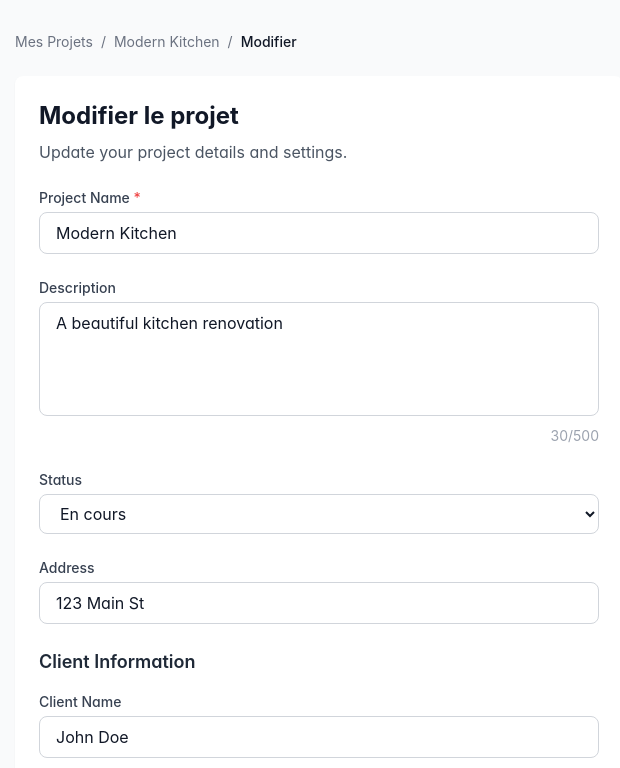
Scenario: ProjectEdit › Form Validation › should show error when name is cleared and form is submitted
Clear the field labelled "Project Name *" at (319, 233), box [39,212,599,254]
(page scrolled)
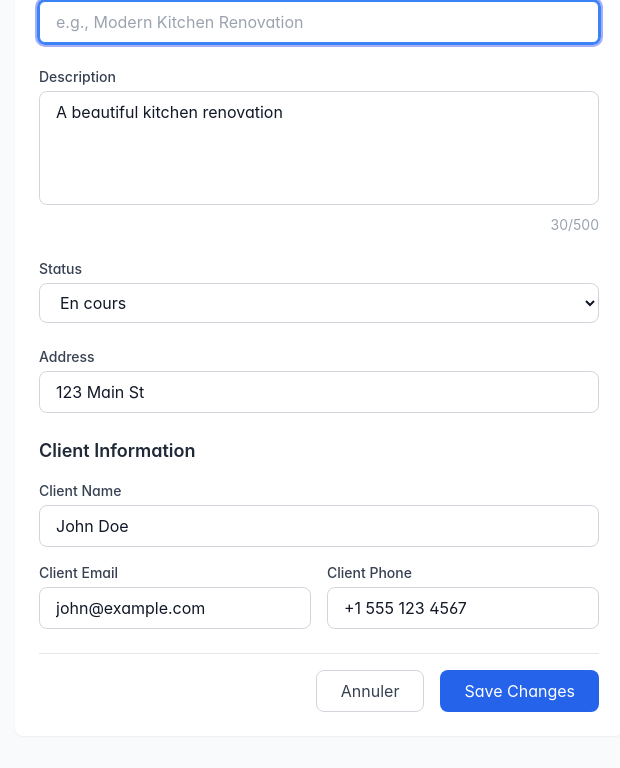
Click the button "Save Changes" at (520, 691), box [440,670,599,712]
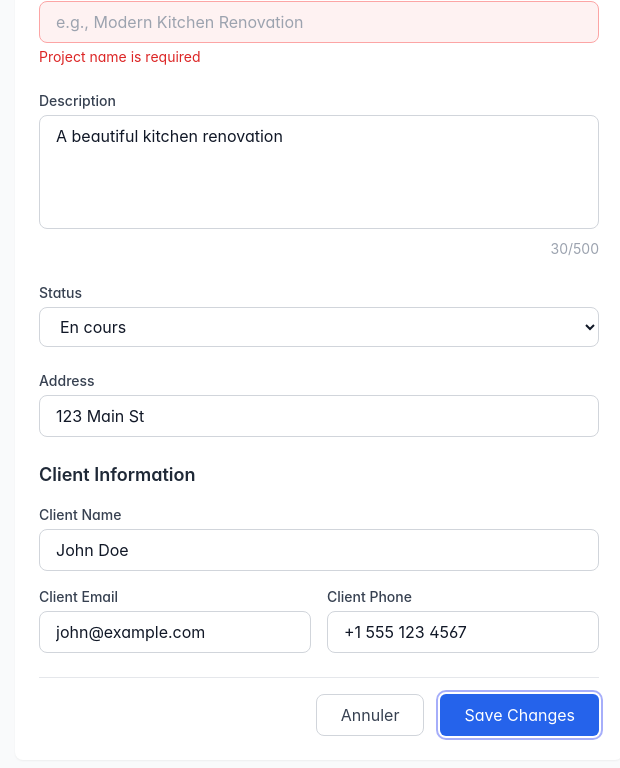
Result: the text "Project name is required" is shown at [39,48,201,65]
